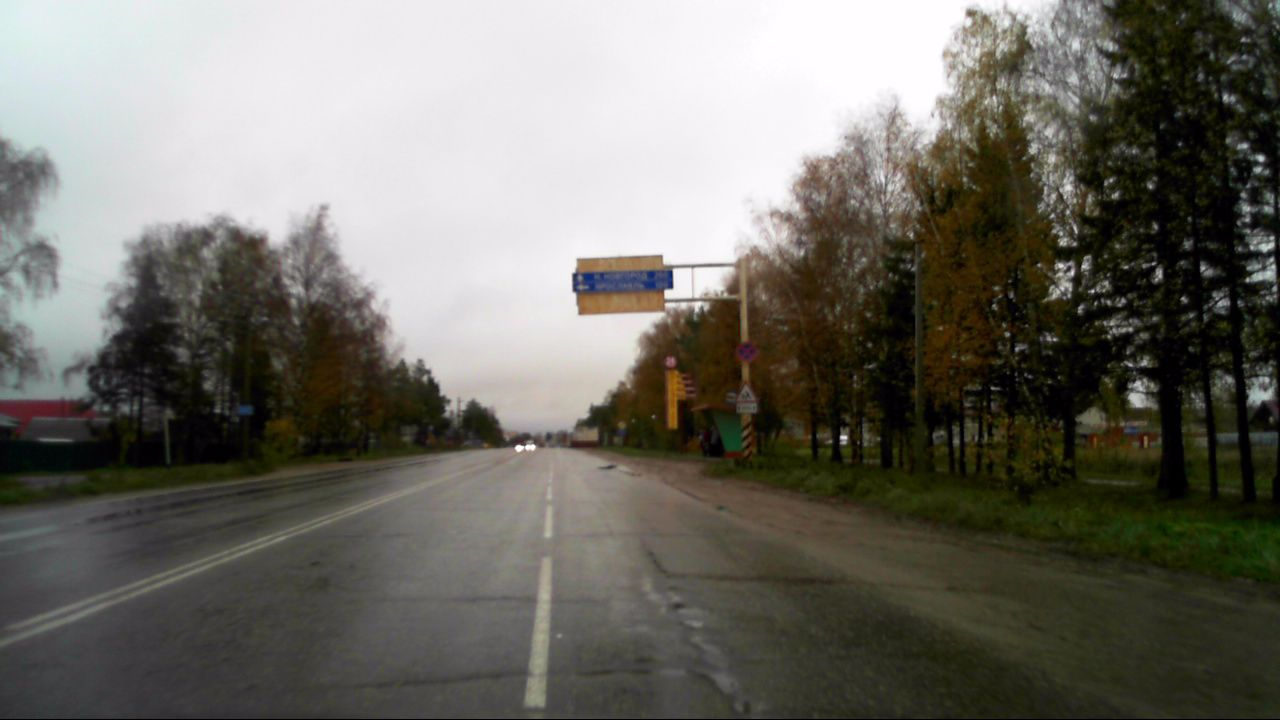No Parking: (733, 338, 760, 363)
